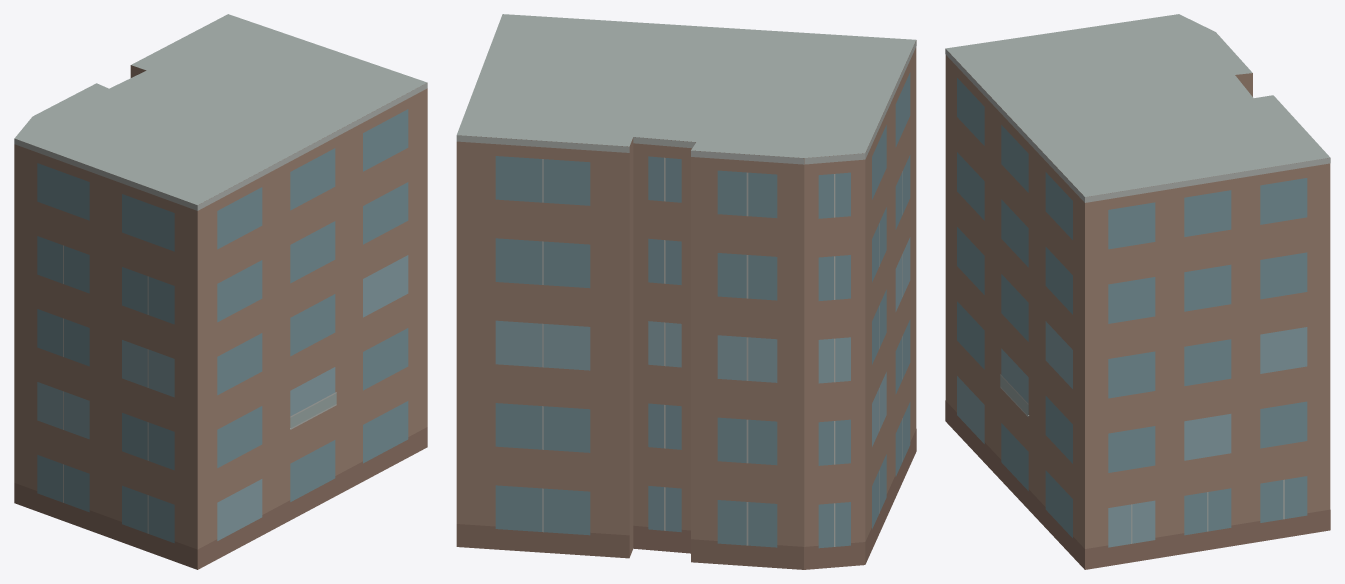
Rendered from survey-upis-32850470.glb.
3 renders of one model, left to right at view 1: azimuth 30°, elevation 25°; view 2: azimuth 150°, elevation 25°; view 3: azimuth 270°, elevation 25°, orthographic. The views are drawn at different scales.
Visible parts, largest first — view 1: survey-upis-32850470.tmp; view 2: survey-upis-32850470.tmp; view 3: survey-upis-32850470.tmp.
Part boxes in pixels (<box>): survey-upis-32850470.tmp: <box>14,14,427,569</box>; survey-upis-32850470.tmp: <box>456,14,916,569</box>; survey-upis-32850470.tmp: <box>945,14,1330,569</box>.
Size of the model in its own units: 16.45 by 15.6 by 14.61.
